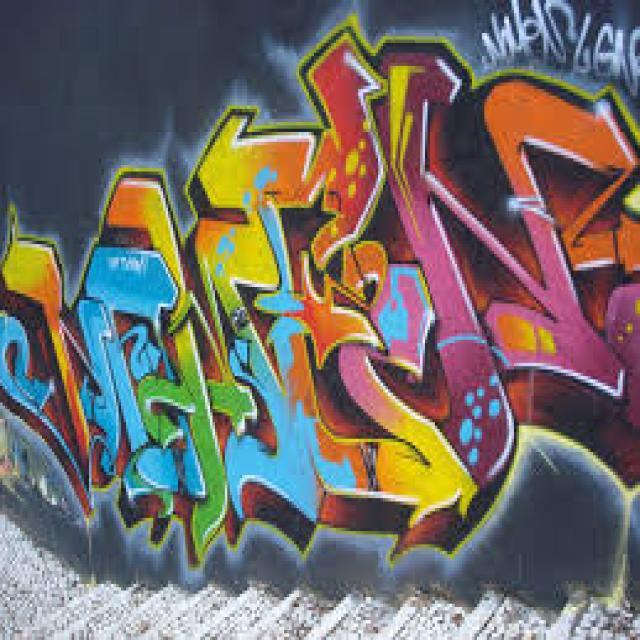-: (0, 7, 640, 573), (474, 0, 640, 99)
